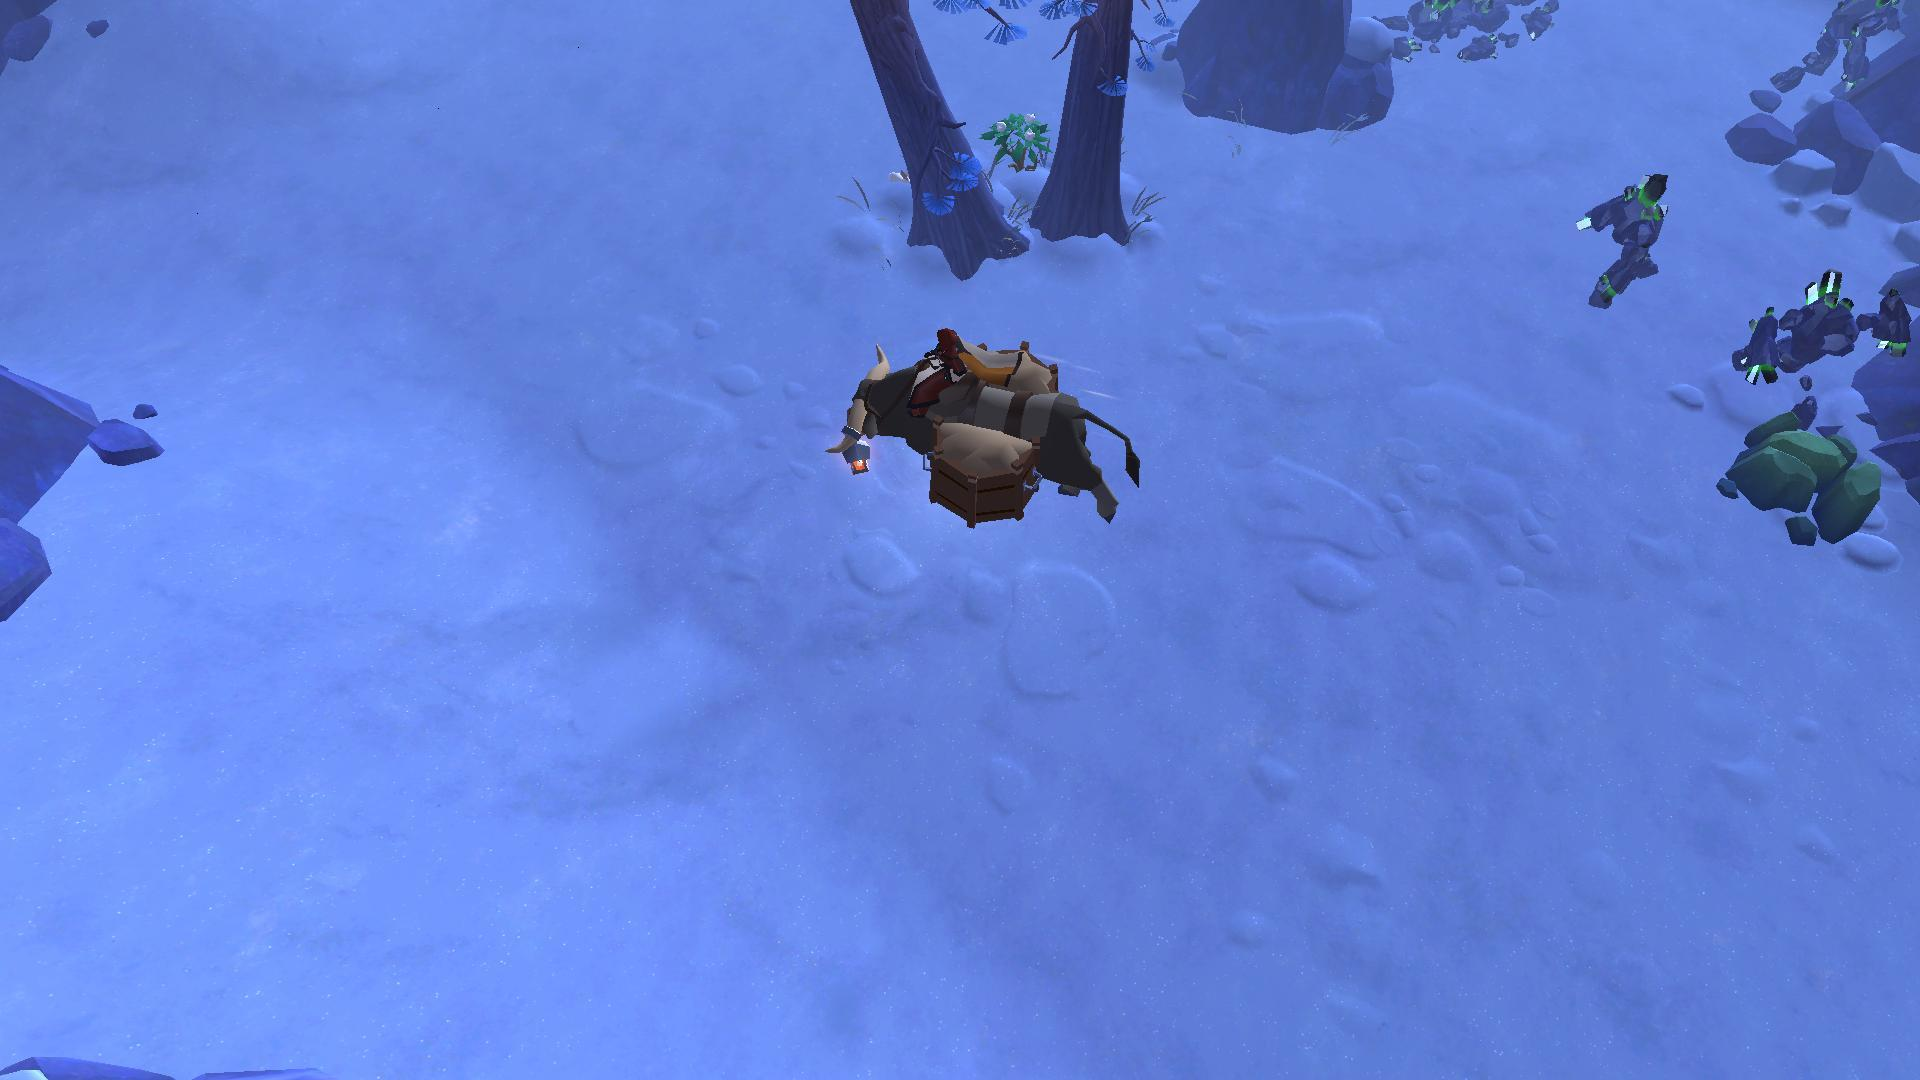fiber_t3: (977, 104, 1051, 179)
rock_t3: (1710, 404, 1880, 549)
